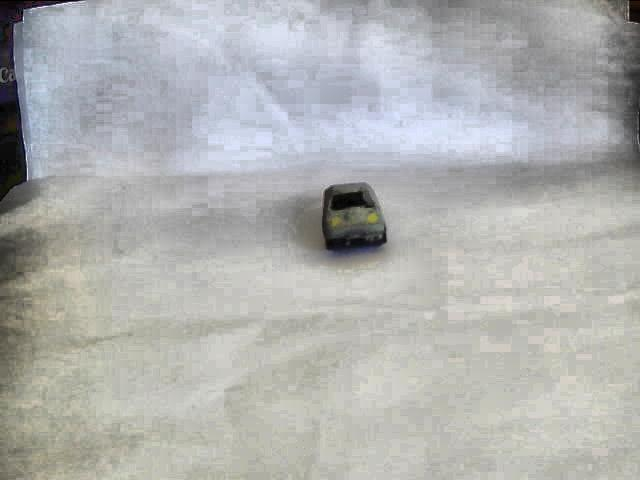normal_car: (319, 181, 388, 251)
